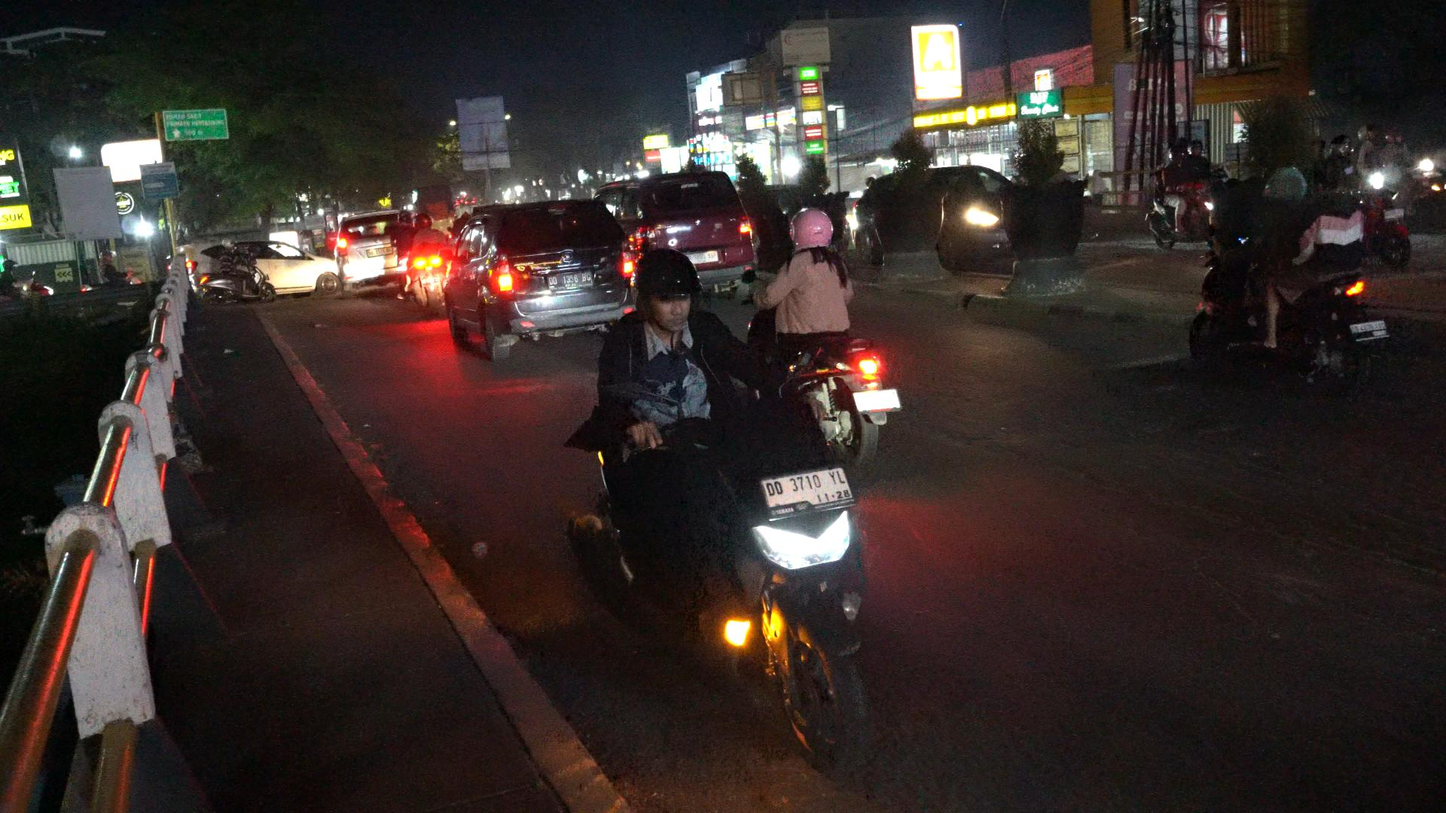number-plate: (753, 467, 858, 522)
